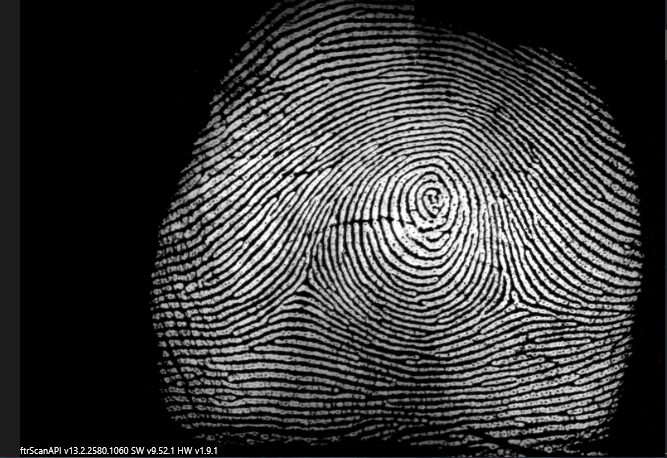nucelo: (414, 177, 447, 218)
verticilo: (498, 281, 532, 314), (290, 263, 323, 296)
